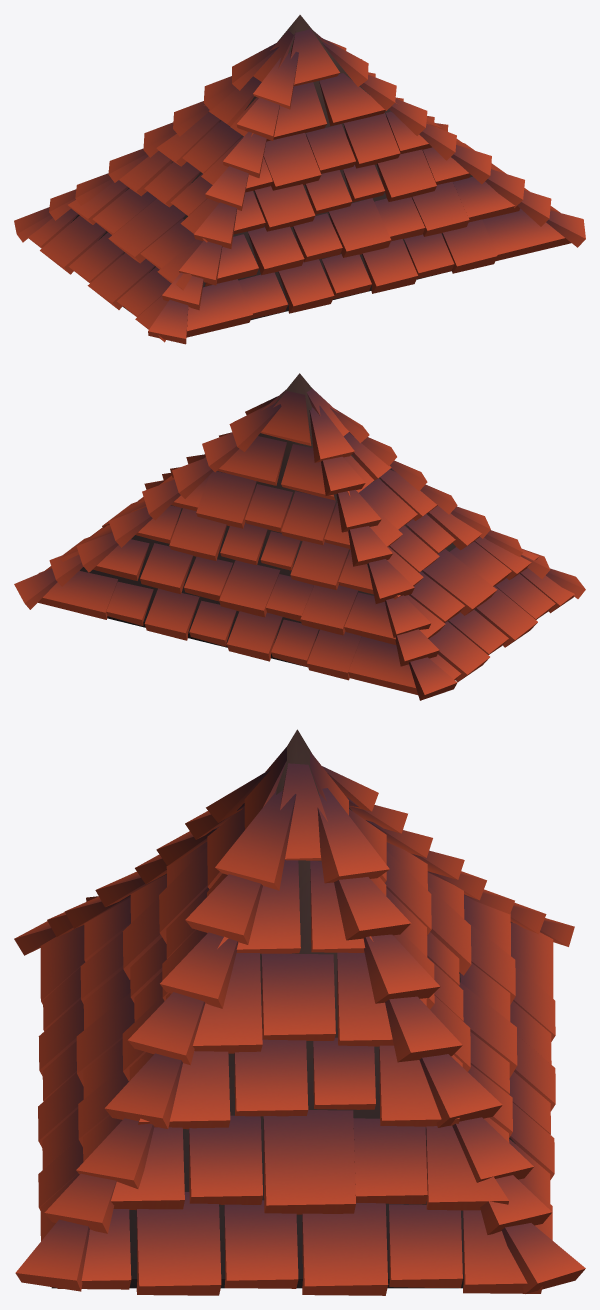
File: RoofA02.fbx
3 views of the same model, one above another, from view 1: azimuth 30°, elevation 25°; view 2: azimuth 150°, elevation 25°; view 3: azimuth 270°, elevation 25° (orthographic). The views are drawn at different scales.
Parts seen in each view (by area): view 1: RoofA02; view 2: RoofA02; view 3: RoofA02.
Part boxes in pixels (x1,y1,x2,y2): RoofA02: [14, 15, 585, 344]; RoofA02: [14, 373, 585, 700]; RoofA02: [14, 729, 585, 1295].
Bounding box in the file's own units: 771 × 380 × 501.
Materials: 1 (1 with a texture image).
